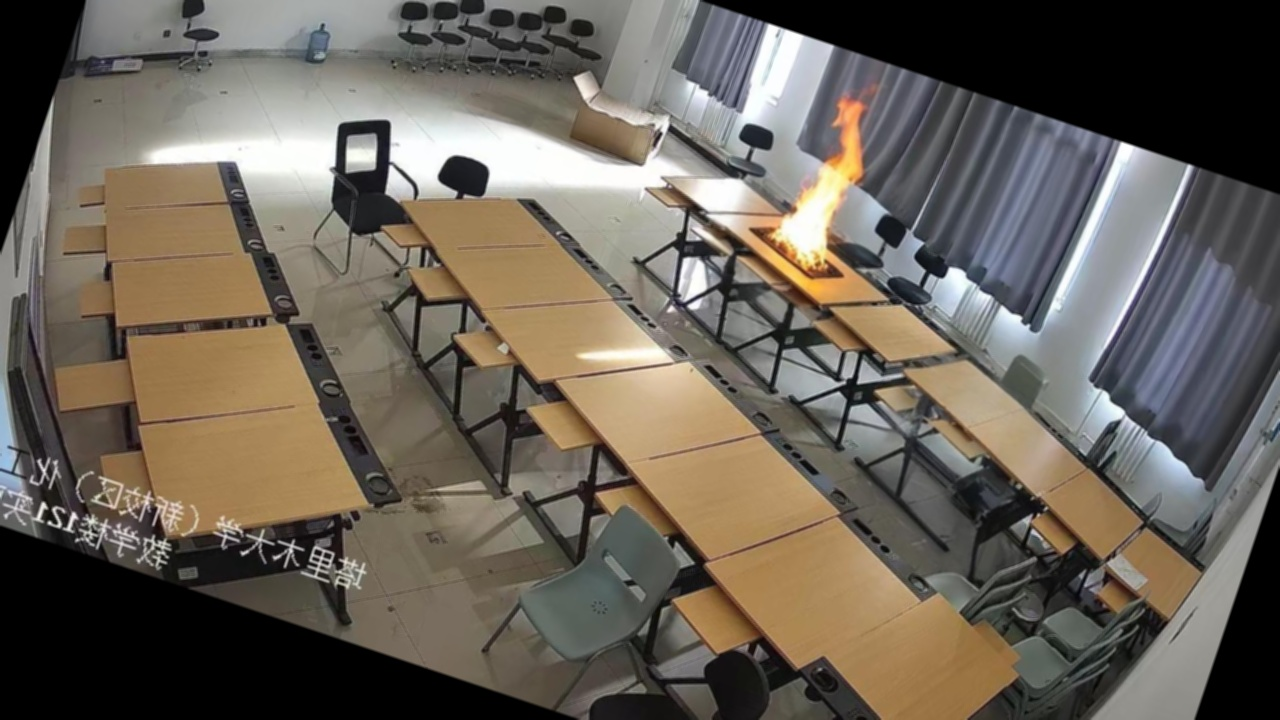fire: (728, 58, 913, 294)
